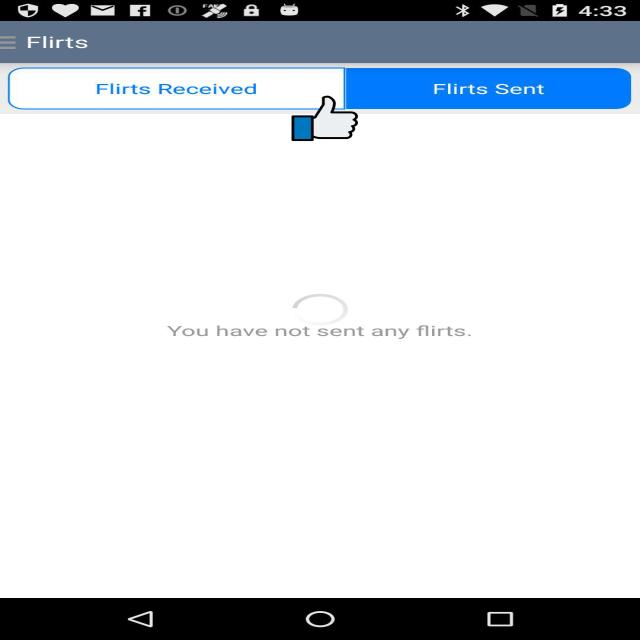privacy zuckering: (291, 95, 358, 142)
